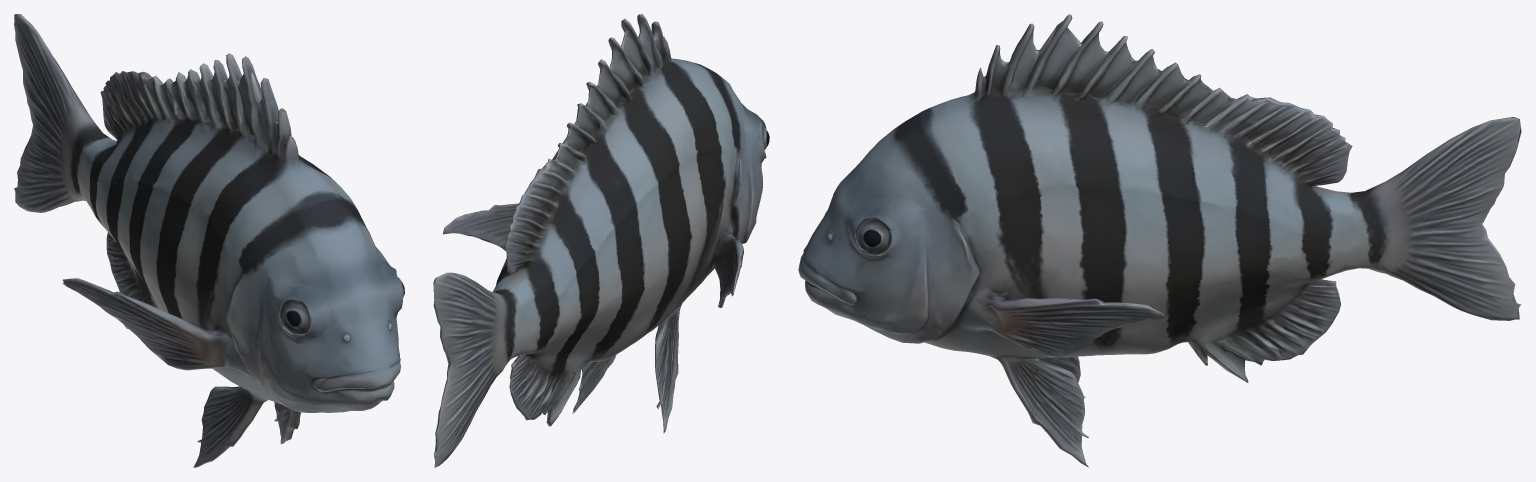
The model's file is sheepshead.glb.
3 renders of one model, left to right at view 1: azimuth 30°, elevation 25°; view 2: azimuth 150°, elevation 25°; view 3: azimuth 270°, elevation 25°, orthographic. The views are drawn at different scales.
Parts seen in each view (by area): view 1: tripo_node_f9057a39-67fd-4c25-b755-15b110d1183c; view 2: tripo_node_f9057a39-67fd-4c25-b755-15b110d1183c; view 3: tripo_node_f9057a39-67fd-4c25-b755-15b110d1183c.
Boxes of the visible parts, <box> form: tripo_node_f9057a39-67fd-4c25-b755-15b110d1183c: <box>14,14,404,467</box>; tripo_node_f9057a39-67fd-4c25-b755-15b110d1183c: <box>433,14,769,467</box>; tripo_node_f9057a39-67fd-4c25-b755-15b110d1183c: <box>798,14,1521,467</box>.
Size of the model in its own units: 0.4855 by 0.6564 by 0.9987.
Materials: 1 (1 with a texture image).
